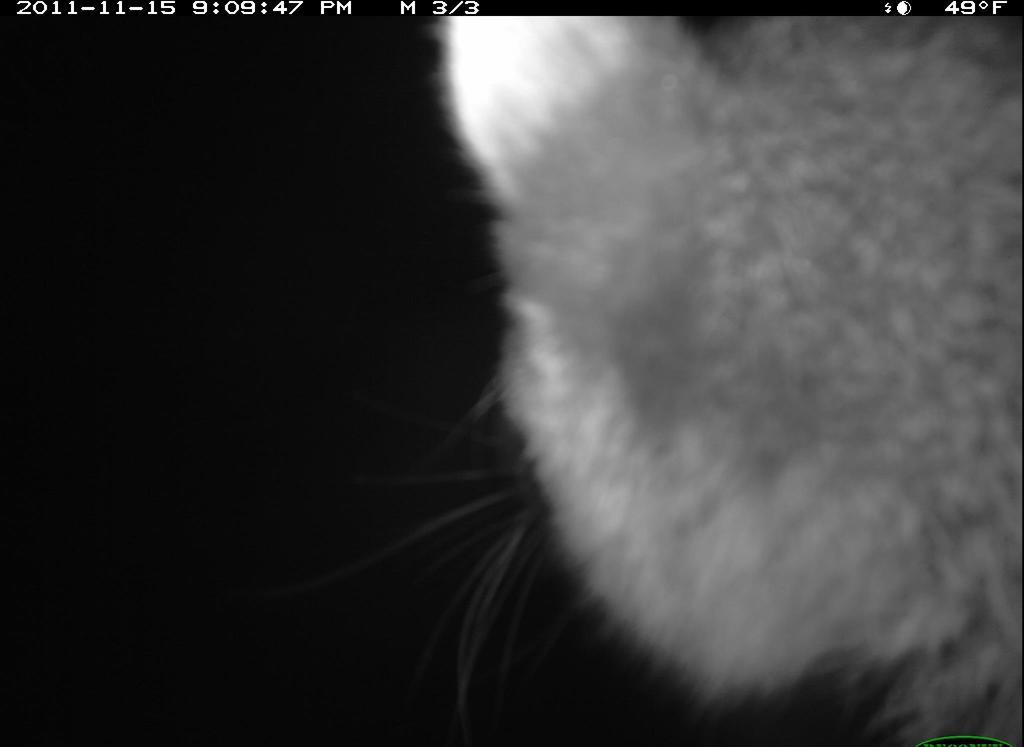raccoon: (431, 15, 1022, 747)
